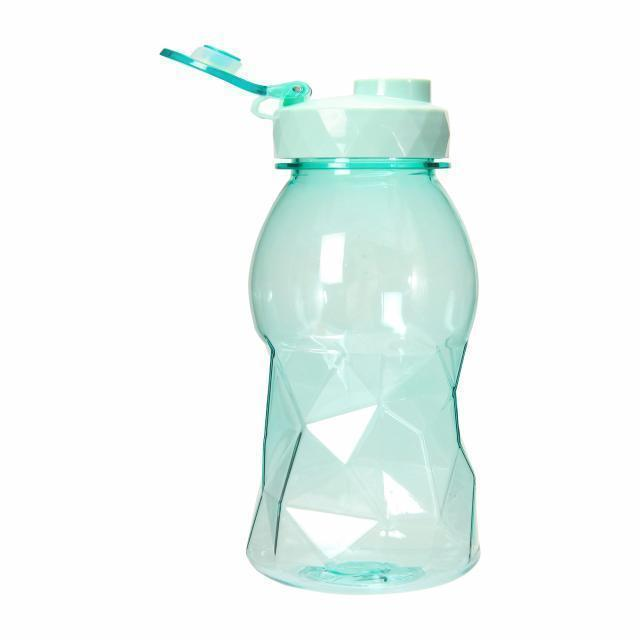Plastic: (156, 42, 474, 589)
